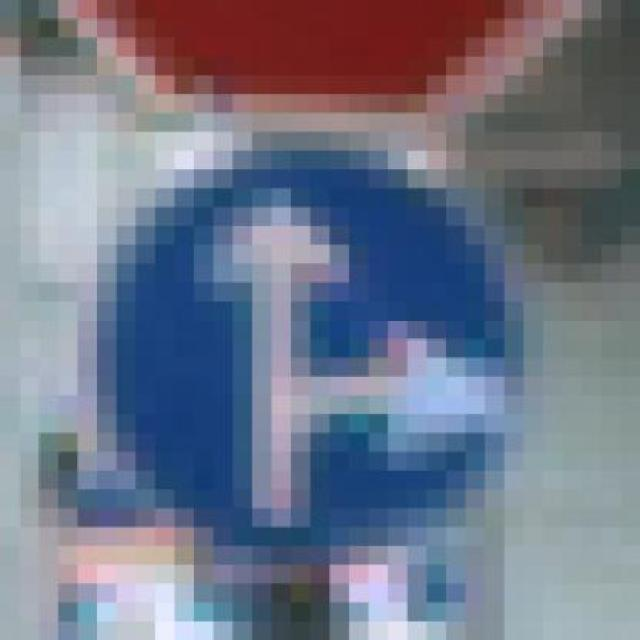Go Straight or Turn Right: (77, 132, 543, 566)
